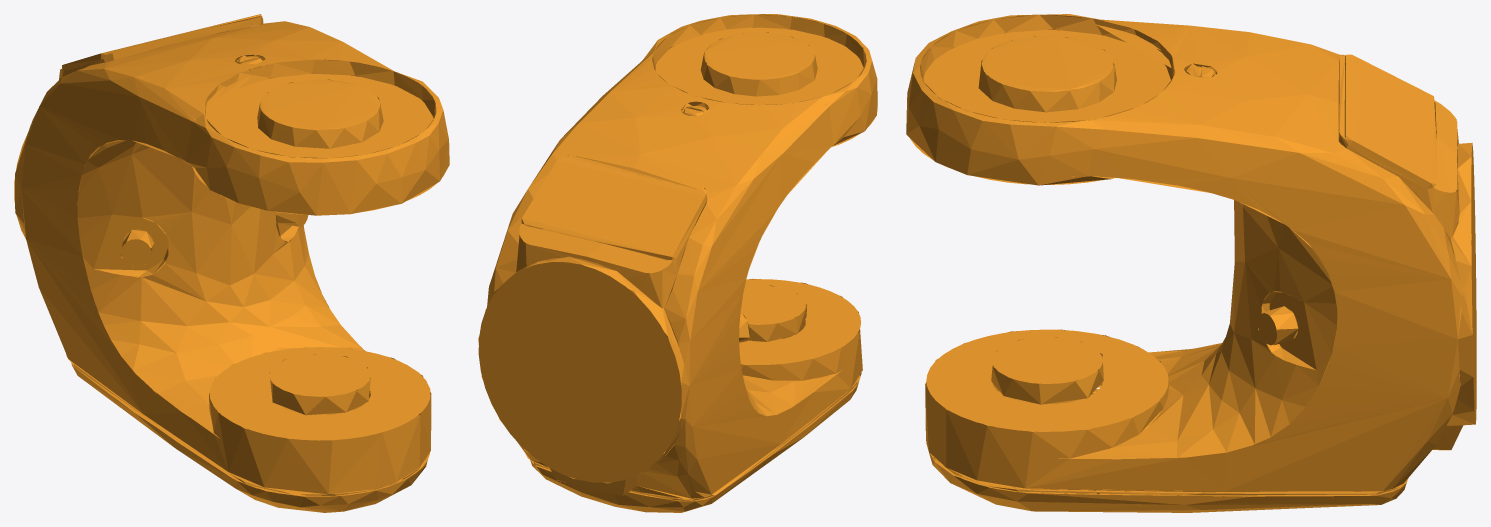
File: Kuka361Link4.dae
3 renders of one model, left to right at view 1: azimuth 30°, elevation 25°; view 2: azimuth 150°, elevation 25°; view 3: azimuth 270°, elevation 25°, orthographic. The views are drawn at different scales.
Visible parts, largest first — view 1: Kuka361Link4; view 2: Kuka361Link4; view 3: Kuka361Link4.
Part boxes in pixels (left/top/right/bottom): Kuka361Link4: left=14, top=14, right=449, bottom=512; Kuka361Link4: left=478, top=14, right=877, bottom=512; Kuka361Link4: left=906, top=14, right=1476, bottom=512.
Bounding box in the file's own units: 0.2882 × 0.5777 × 0.4803.
